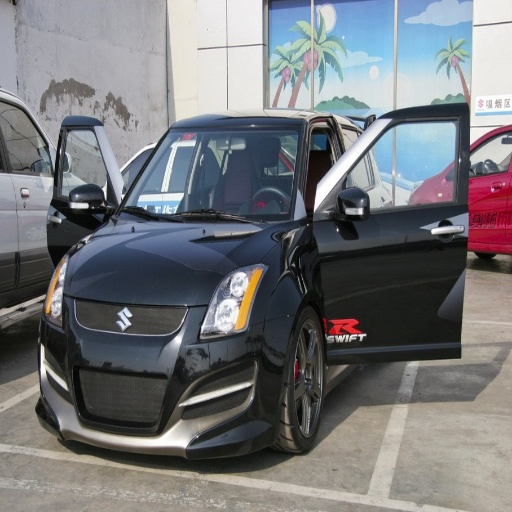front_bumper: (42, 297, 284, 459)
front_glass: (127, 123, 304, 221)
front_left_door: (315, 124, 420, 352)
front_left_light: (196, 264, 266, 342)
front_right_door: (4, 95, 52, 203)
trunk: (405, 225, 443, 314)
